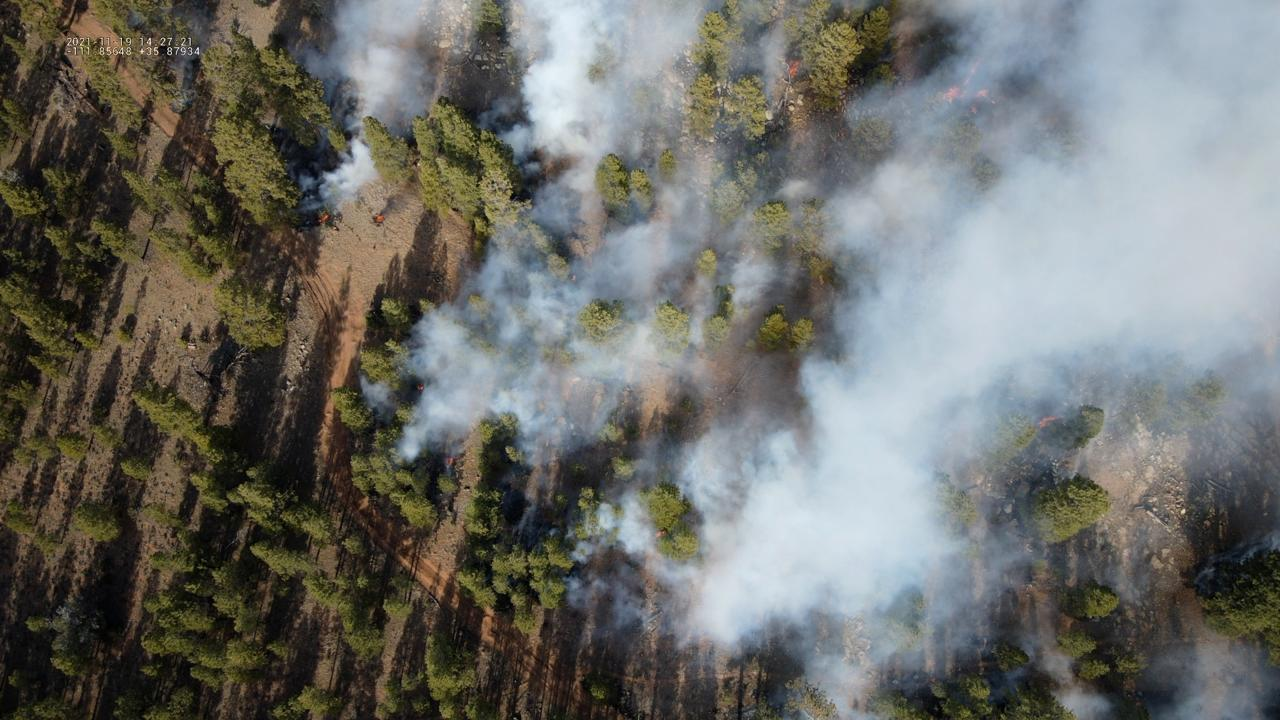fire: (1037, 413, 1065, 428), (940, 84, 961, 102), (787, 59, 801, 79), (974, 88, 990, 97), (444, 456, 454, 468), (319, 214, 328, 223), (375, 215, 385, 223), (416, 384, 425, 392), (969, 106, 978, 114), (655, 530, 664, 538)
smoke: (280, 0, 1280, 720), (123, 7, 210, 91)
